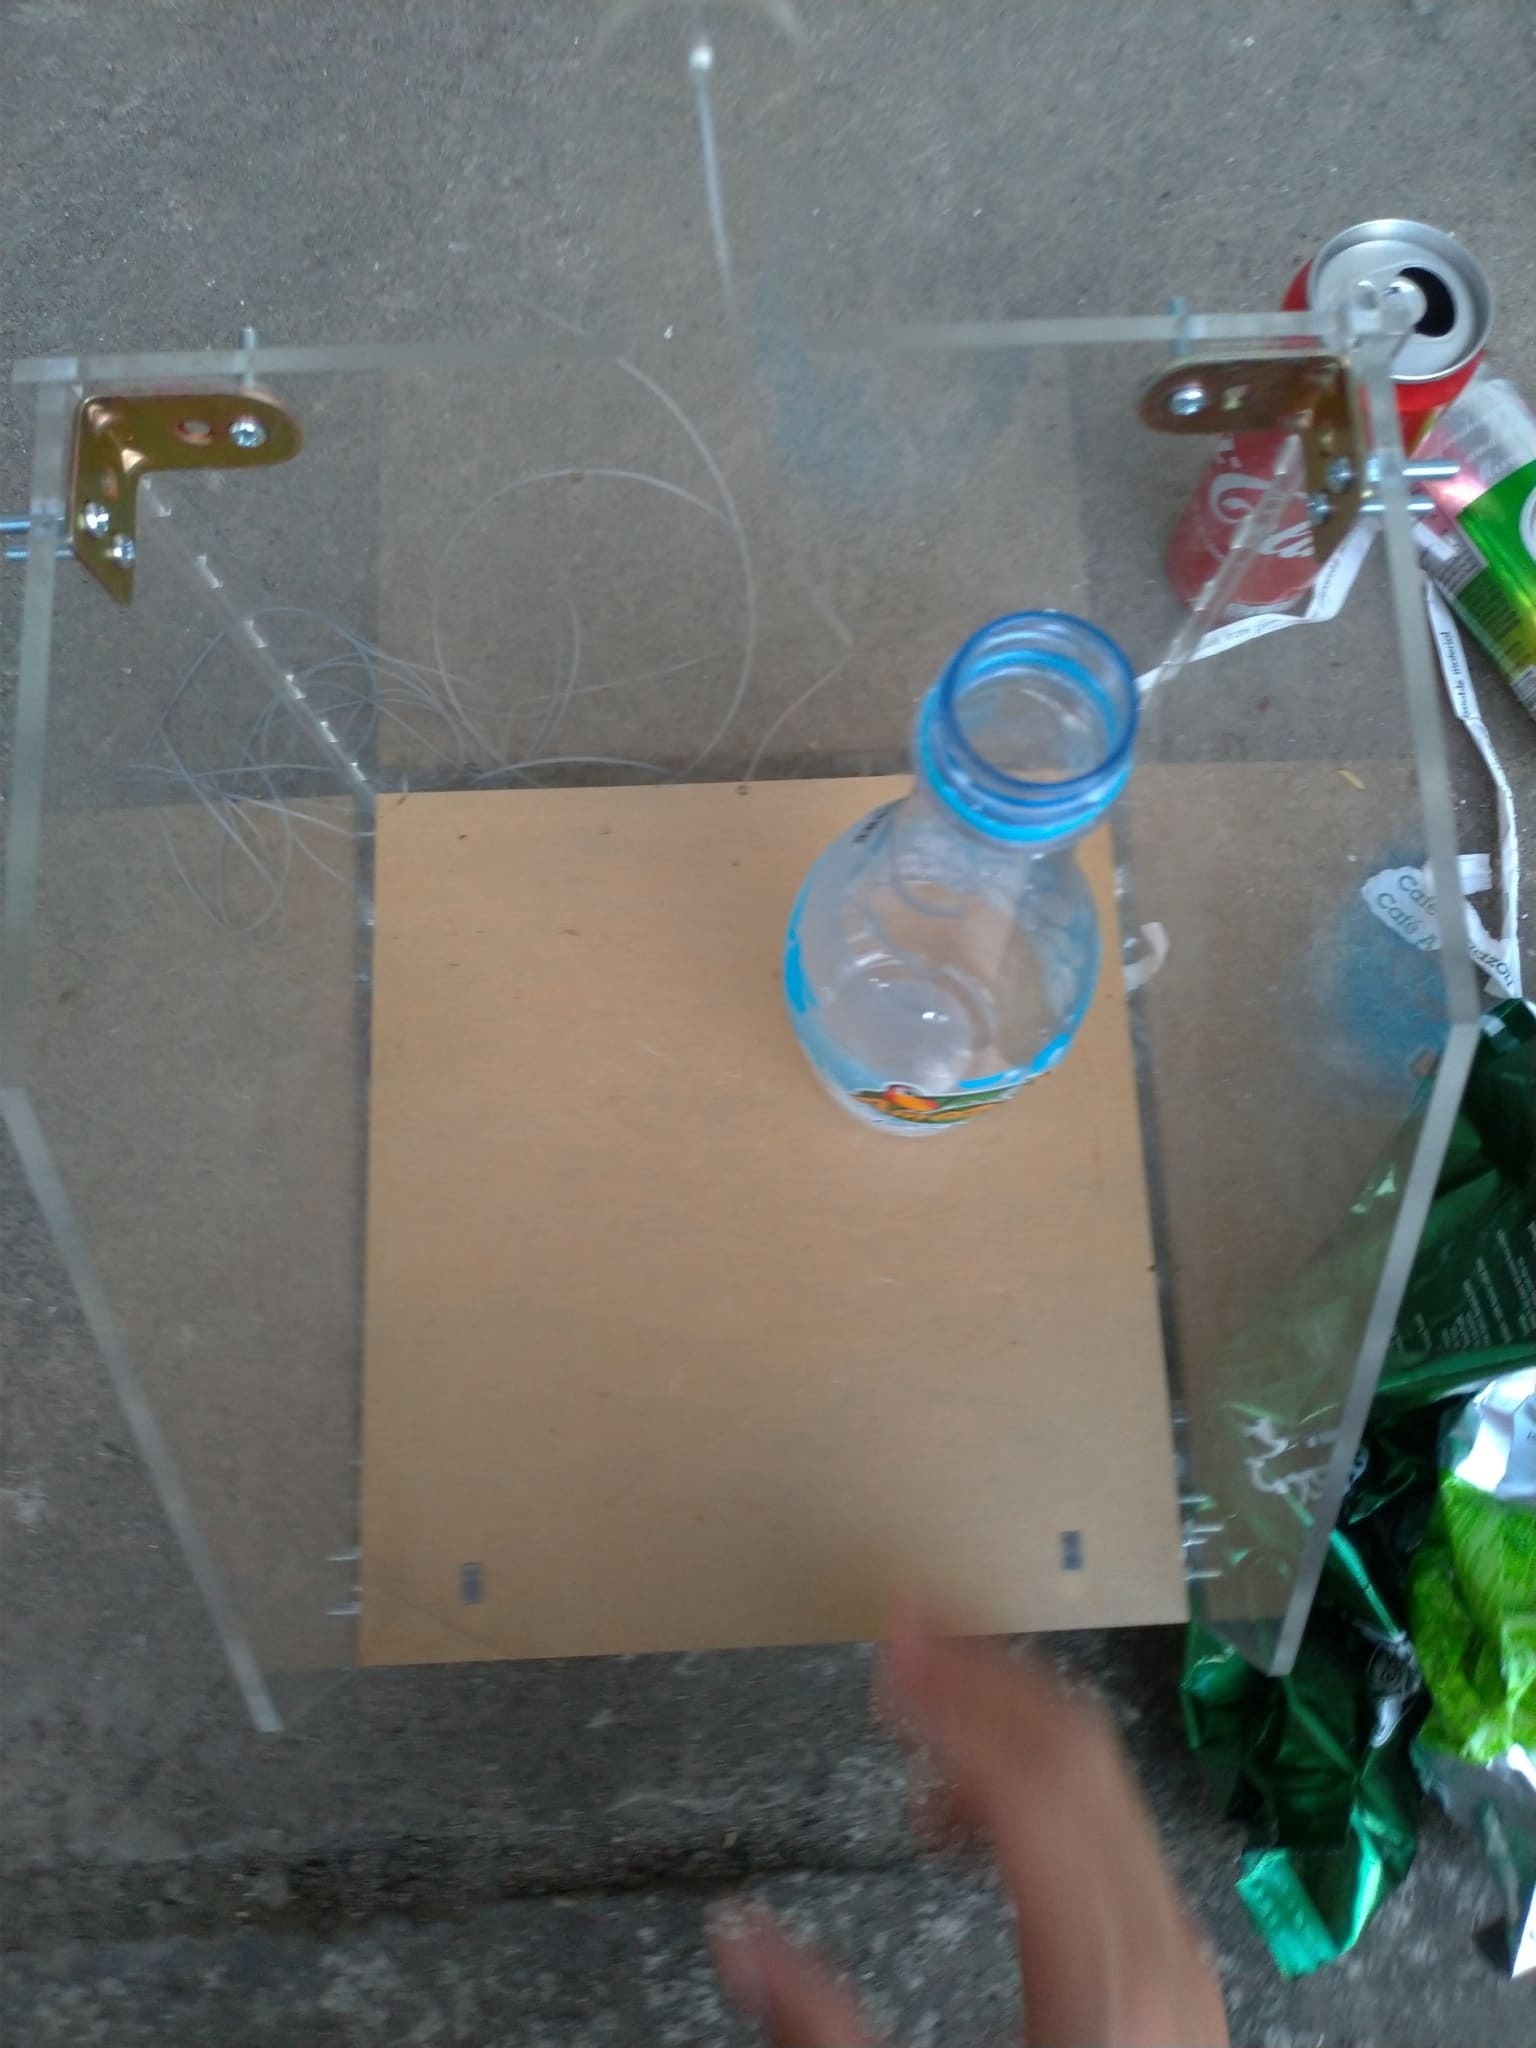AlCan: (1175, 219, 1504, 619), (1412, 371, 1534, 729)
Others: (1175, 1022, 1534, 1974), (1396, 1377, 1536, 1980), (1363, 571, 1530, 1003), (1158, 542, 1379, 677)
PlasticBottle: (787, 613, 1146, 1129)
